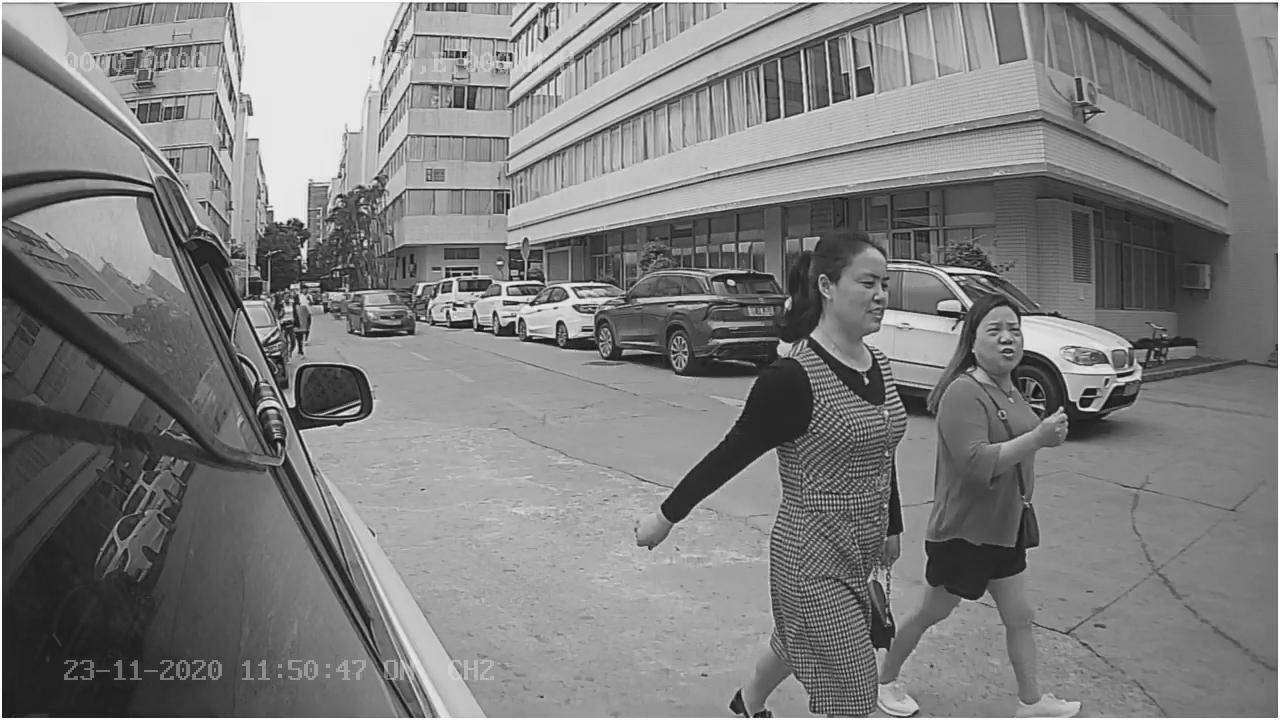person: (869, 281, 1090, 717)
